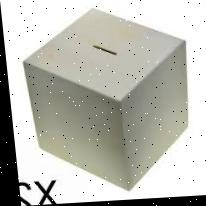cube: (17, 6, 195, 197)
